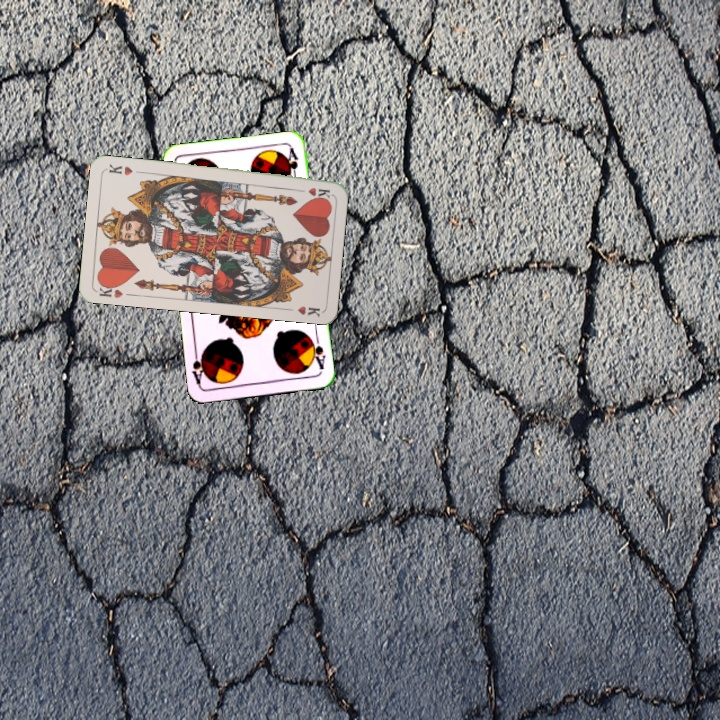HK: (93, 279, 125, 301), (292, 183, 333, 199)
SA: (306, 332, 328, 372)
